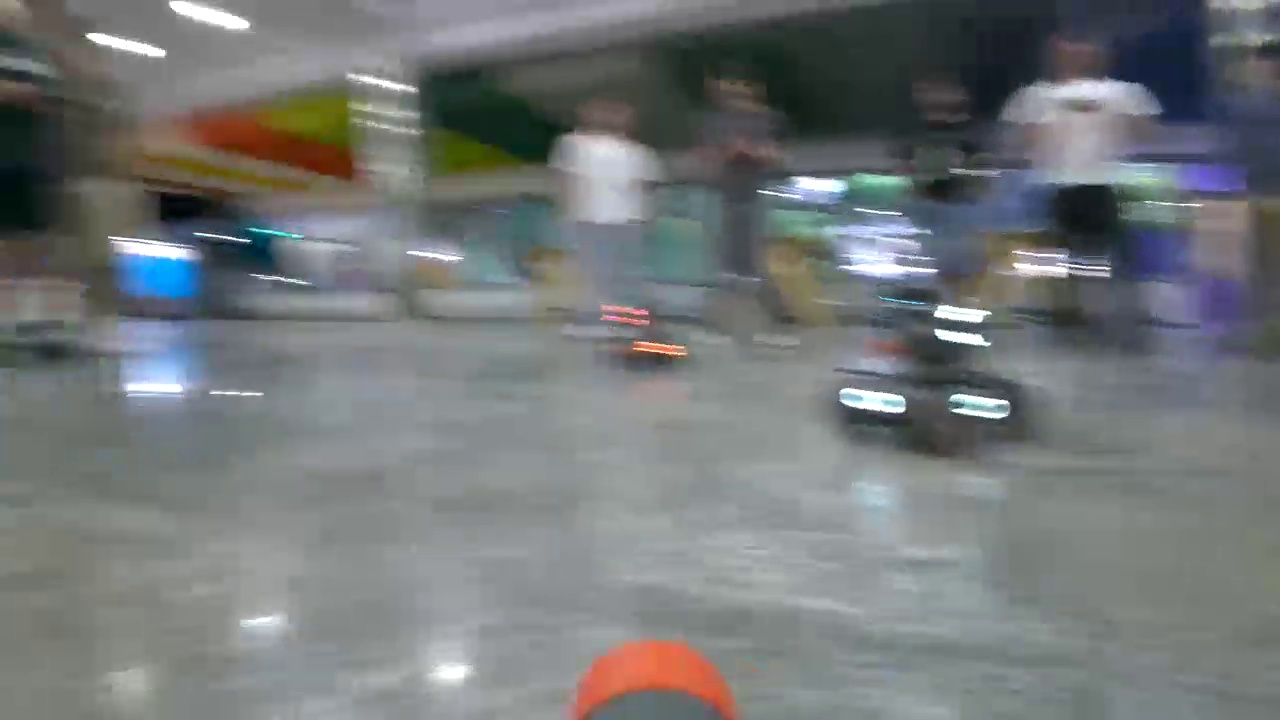robot: (831, 283, 1049, 455), (598, 301, 690, 361)
